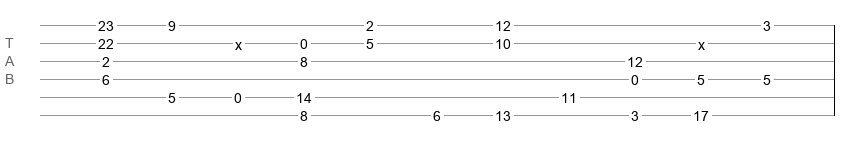0: (234, 90, 242, 100), (300, 36, 308, 46), (631, 72, 639, 82)
10: (495, 36, 511, 46)
11: (561, 90, 577, 100)
12: (495, 18, 511, 28), (627, 54, 643, 64)
13: (495, 108, 511, 118)
14: (296, 90, 312, 100)
17: (693, 108, 709, 118)
2: (102, 54, 110, 64), (366, 18, 374, 28)
22: (98, 36, 114, 46)
23: (98, 18, 114, 28)
3: (631, 108, 639, 118), (763, 18, 771, 28)
5: (168, 90, 176, 100), (366, 36, 374, 46), (697, 72, 705, 82), (763, 72, 771, 82)
6: (102, 72, 110, 82), (433, 108, 441, 118)
8: (300, 54, 308, 64), (300, 108, 308, 118)
9: (168, 18, 176, 28)
x: (235, 37, 242, 45), (698, 37, 705, 45)
